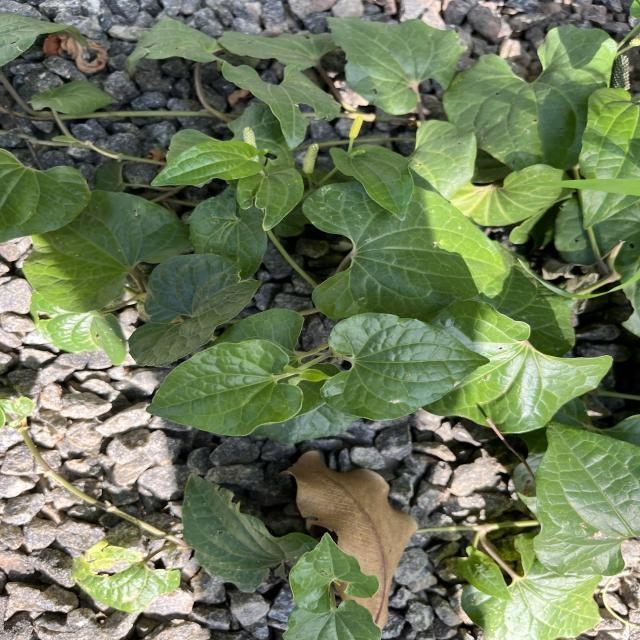Piper longum: (318, 311, 492, 424), (144, 337, 306, 438)
